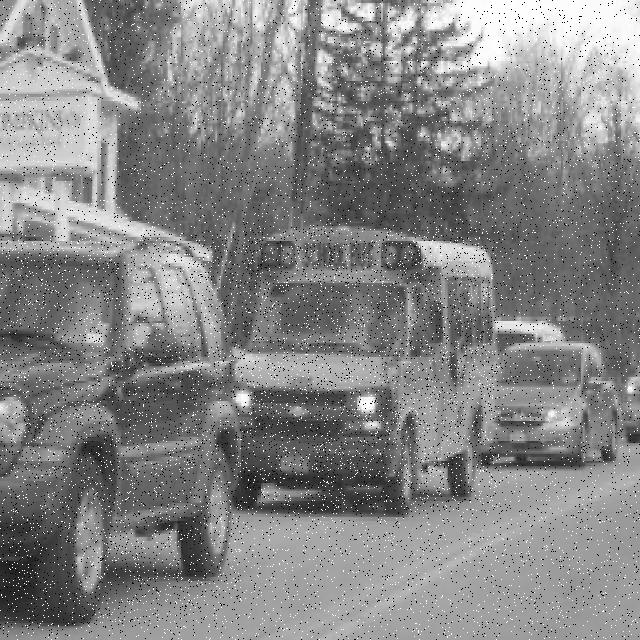Bus- Small: (231, 228, 499, 515)
SUV: (0, 233, 241, 627)
